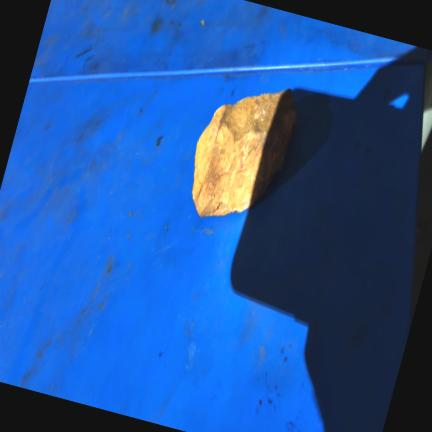Rocks: (192, 90, 297, 217)
